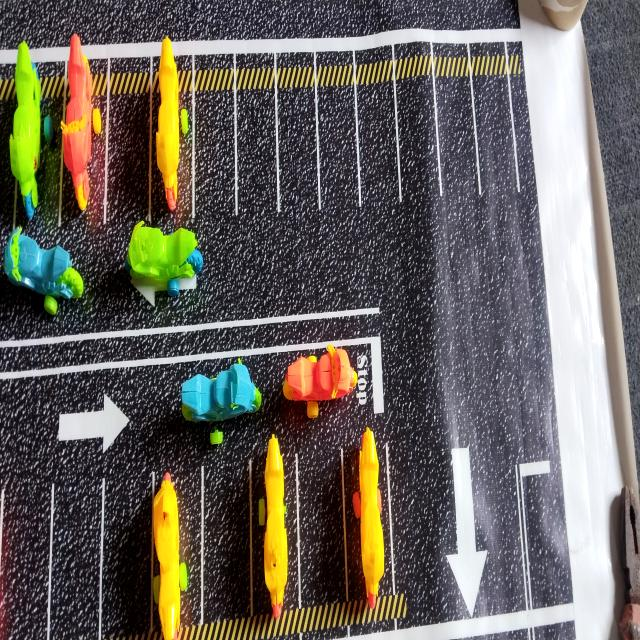bikes: (4, 228, 84, 315), (182, 357, 261, 444), (125, 221, 203, 297), (283, 344, 357, 418)
occupied: (9, 41, 65, 227), (249, 435, 301, 618), (59, 33, 108, 227), (147, 38, 194, 231), (150, 472, 202, 640), (343, 428, 392, 600)
others: (619, 487, 640, 640), (540, 0, 587, 31)
slots: (101, 471, 151, 637), (50, 478, 100, 640), (0, 481, 50, 640), (203, 459, 250, 623), (299, 439, 345, 605), (195, 68, 235, 221), (396, 78, 439, 218), (436, 77, 482, 204), (474, 75, 518, 206), (357, 73, 399, 206), (318, 84, 359, 219), (278, 83, 318, 219), (107, 93, 149, 221), (237, 89, 277, 215), (75, 556, 79, 562)
slots-bike-occupied-others: (359, 428, 384, 607)
